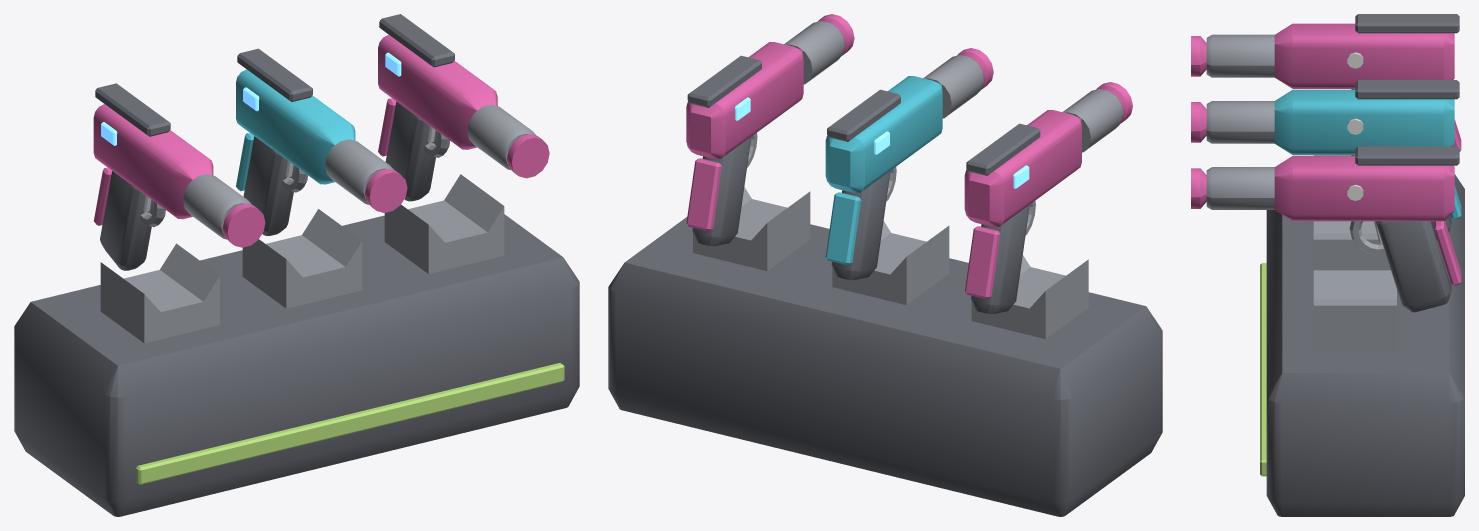
File: laser-tag-arena-and-activity-centre-phaser-charging-do-d5c104f2__34491.glb
3 renders of one model, left to right at view 1: azimuth 30°, elevation 25°; view 2: azimuth 150°, elevation 25°; view 3: azimuth 270°, elevation 25°, orthographic. The views are drawn at different scales.
Parts seen in each view (by area): view 1: phaser-charging-dock; view 2: phaser-charging-dock; view 3: phaser-charging-dock.
Part boxes in pixels (bbox=[...]): phaser-charging-dock: bbox=[14, 14, 579, 516]; phaser-charging-dock: bbox=[608, 14, 1162, 516]; phaser-charging-dock: bbox=[1191, 14, 1464, 516].
Bounding box in the file's own units: 1 × 0.6905 × 0.525.
